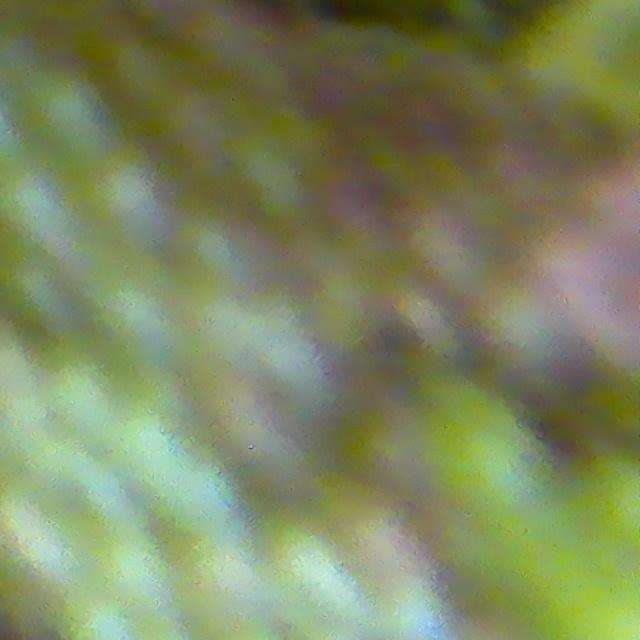SeaGrape: (412, 385, 552, 534), (88, 248, 186, 357), (87, 521, 181, 619), (35, 336, 124, 435), (22, 62, 112, 155), (0, 153, 83, 252), (82, 148, 169, 241), (0, 253, 69, 329)
